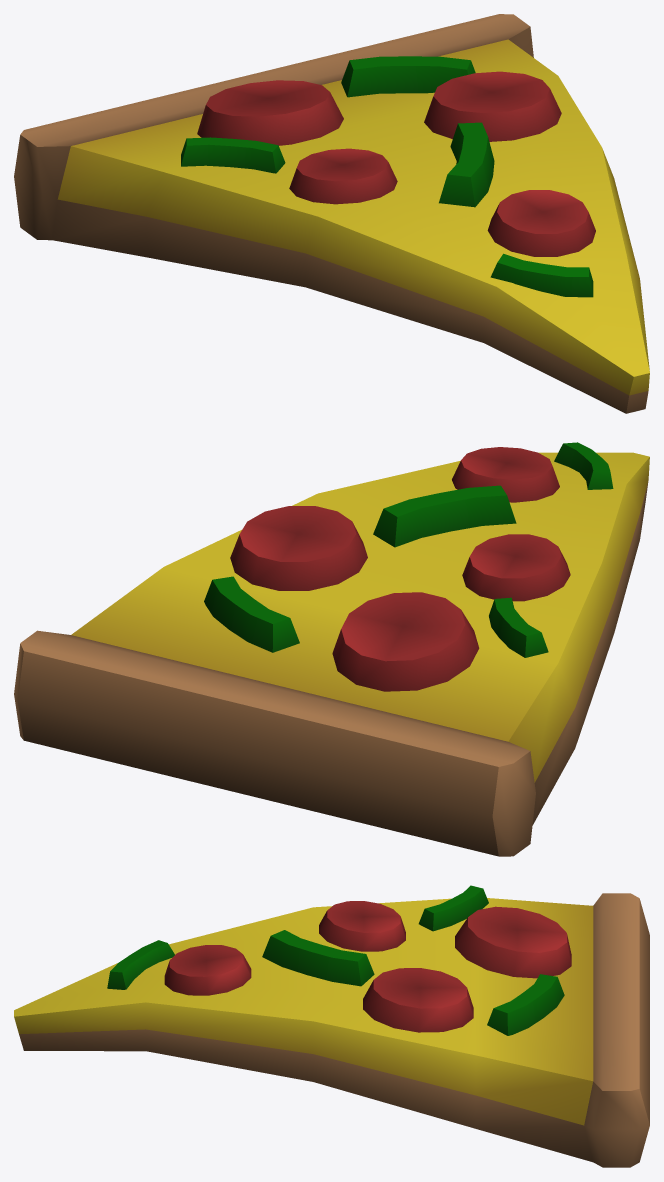
Rendered from Snake_Pizza.FBX.
3 renders of one model, top to bottom at view 1: azimuth 30°, elevation 25°; view 2: azimuth 150°, elevation 25°; view 3: azimuth 270°, elevation 25°, orthographic. The views are drawn at different scales.
Parts seen in each view (by area): view 1: Box006; view 2: Box006; view 3: Box006.
Boxes of the visible parts, x1,y1,x2,y2 form: Box006: (14, 14, 649, 413); Box006: (14, 442, 649, 856); Box006: (14, 885, 649, 1167).
Size of the model in its own units: 163 by 48.62 by 221.
